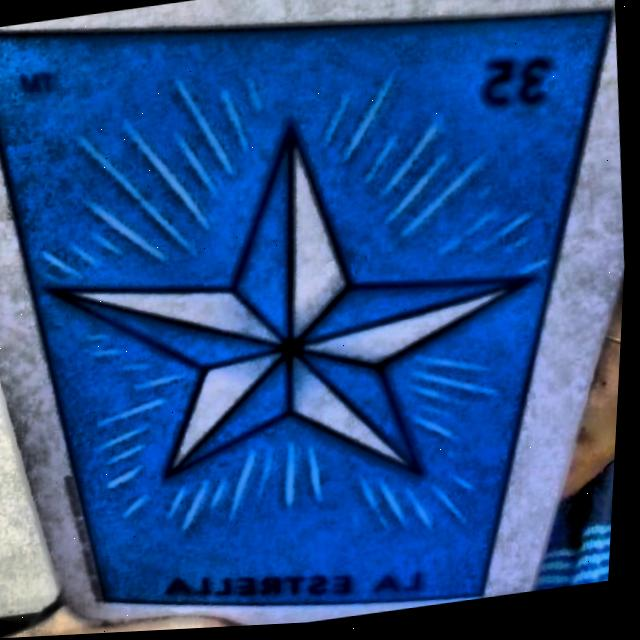La Estrella: (0, 18, 615, 607)
